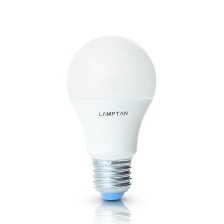light_bulb: (62, 29, 159, 205)
